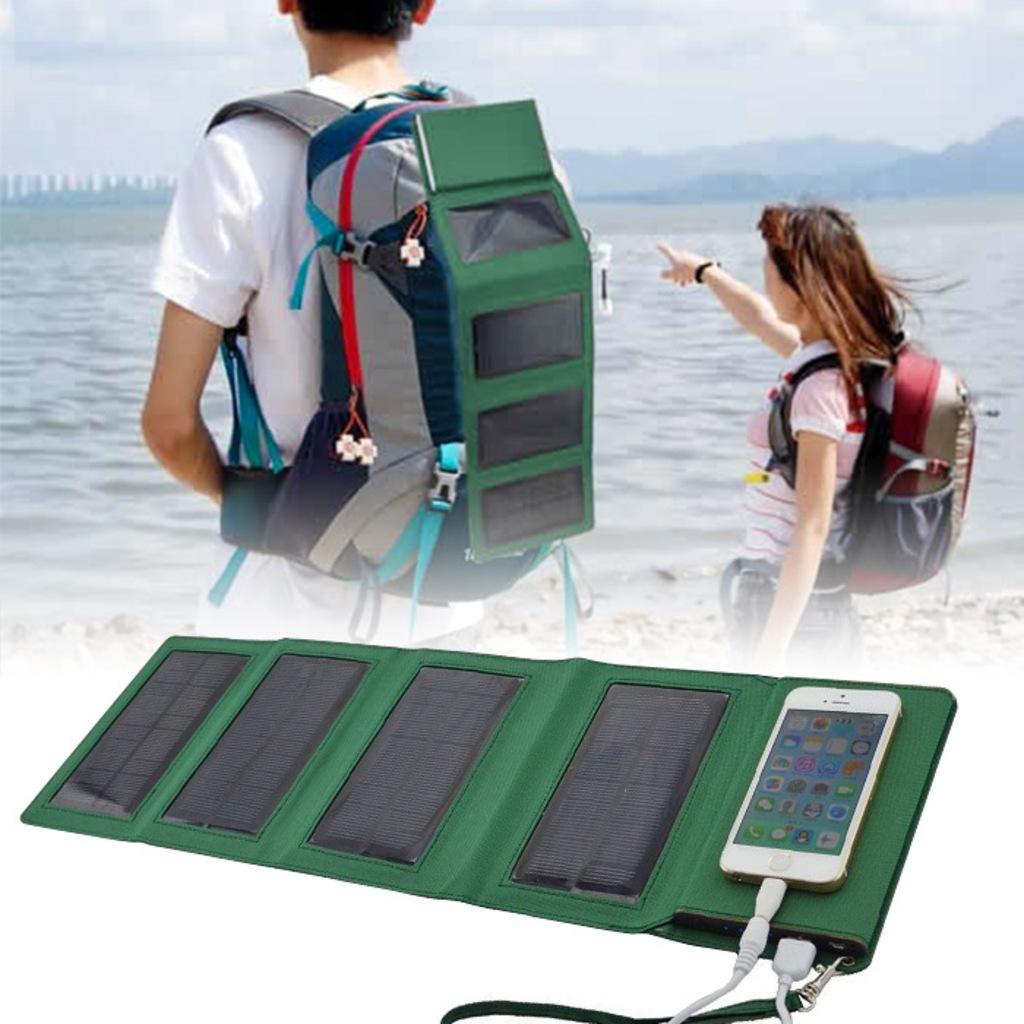Luggage-and-bags: (26, 626, 957, 1023), (234, 85, 562, 527), (768, 332, 995, 617)
